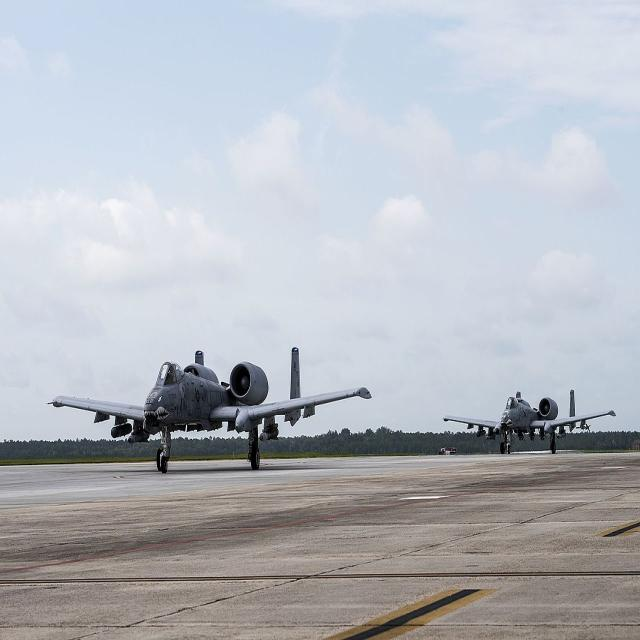MIL_Plane: (46, 347, 372, 475), (442, 389, 618, 453)
